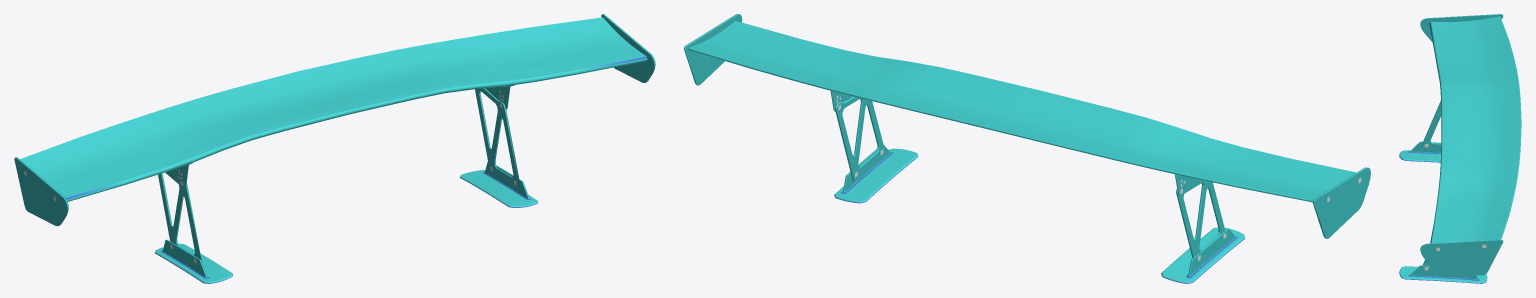
The model's file is Car_Nissan_SkylineGTRVspecR34_1999_Spoiler_SetE.fbx.
The picture shows the model from 3 angles, left to right: view 1: azimuth 30°, elevation 25°; view 2: azimuth 150°, elevation 25°; view 3: azimuth 270°, elevation 25°; orthographic projection. The views are drawn at different scales.
Parts seen in each view (by area): view 1: Spoiler 6; view 2: Spoiler 6; view 3: Spoiler 6.
Part boxes in pixels (left/top/right/bottom): Spoiler 6: left=14, top=14, right=655, bottom=283; Spoiler 6: left=684, top=14, right=1370, bottom=283; Spoiler 6: left=1399, top=14, right=1521, bottom=283.
Bounding box in the file's own units: 1.72 × 0.3426 × 0.3912.
